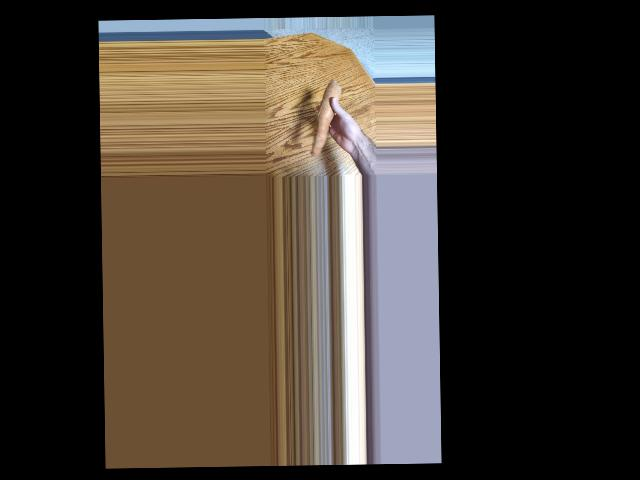sweet_potato: (315, 81, 338, 160)
